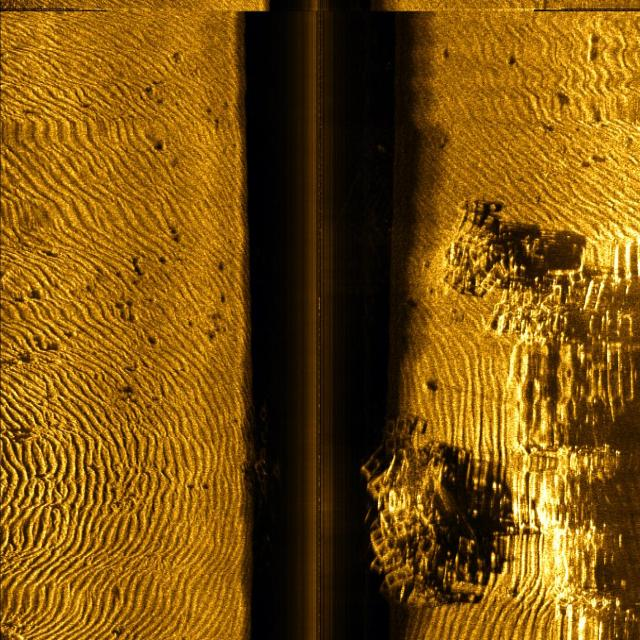artificial reef: (361, 390, 470, 605), (441, 198, 559, 348), (247, 393, 288, 516)
